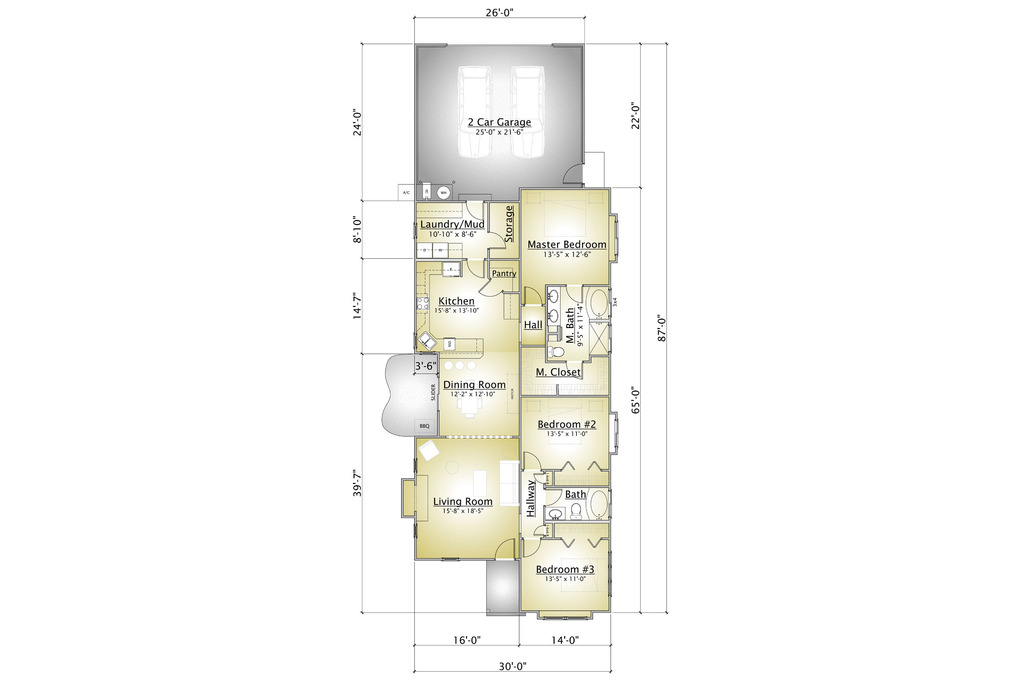dining_table: (453, 363, 503, 418)
door: (556, 155, 591, 186), (518, 286, 549, 310), (562, 276, 584, 309), (462, 200, 490, 225), (495, 535, 520, 562), (525, 535, 550, 562), (486, 226, 507, 254), (539, 484, 565, 506), (516, 453, 545, 472), (478, 273, 500, 297), (466, 256, 488, 279), (566, 364, 587, 387)
large_sink: (566, 499, 588, 521), (545, 344, 570, 360)
small_sink: (546, 287, 561, 329), (540, 503, 568, 524)
tub: (588, 285, 613, 322), (588, 485, 606, 520)
twin_sink: (413, 320, 441, 354)
